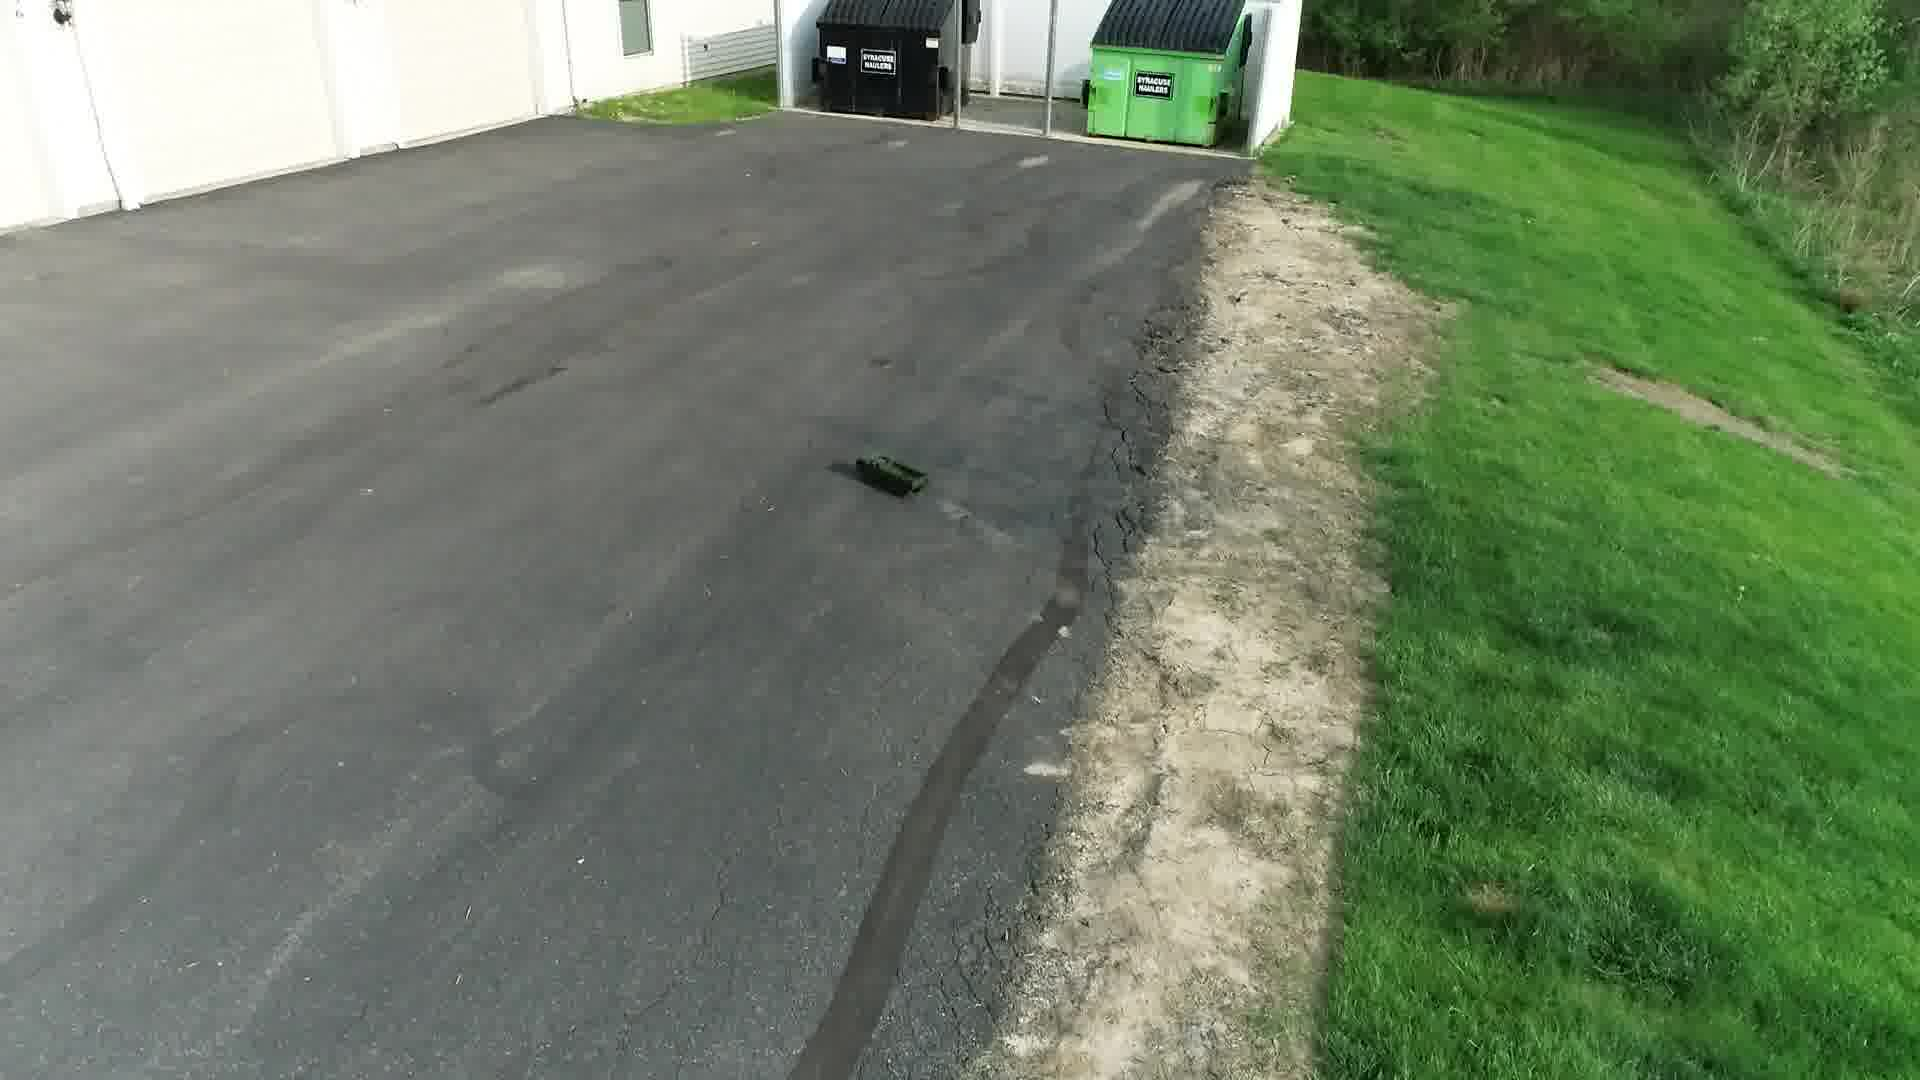transporter9: (848, 451, 934, 498)
